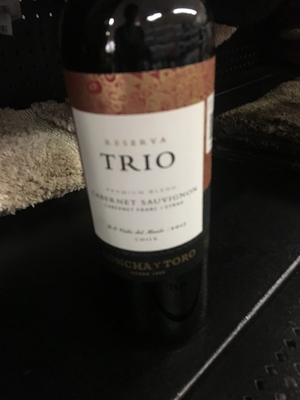trio cabernet sauvignon: (58, 4, 237, 315)
